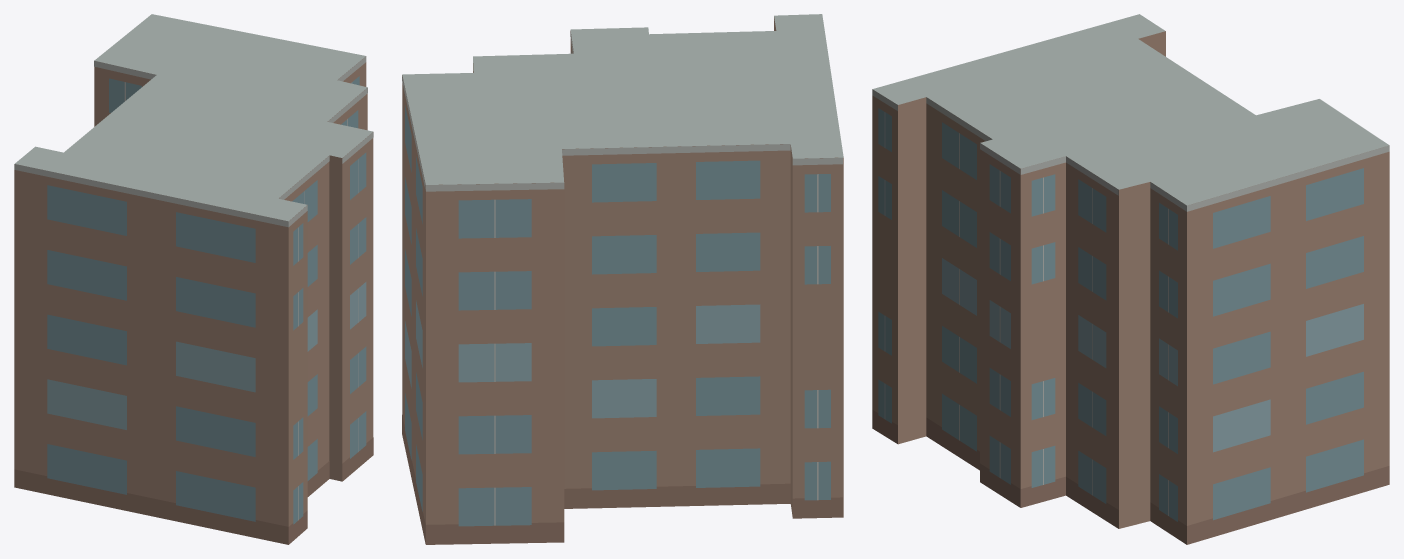
The model's file is survey-upis-32758065.glb.
3 renders of one model, left to right at view 1: azimuth 30°, elevation 25°; view 2: azimuth 150°, elevation 25°; view 3: azimuth 270°, elevation 25°, orthographic. The views are drawn at different scales.
Parts seen in each view (by area): view 1: survey-upis-32758065.tmp; view 2: survey-upis-32758065.tmp; view 3: survey-upis-32758065.tmp.
Boxes of the visible parts, bbox=[...] form: survey-upis-32758065.tmp: bbox=[14, 14, 373, 544]; survey-upis-32758065.tmp: bbox=[402, 14, 843, 544]; survey-upis-32758065.tmp: bbox=[872, 14, 1389, 544].
Size of the model in its own units: 15.99 by 13.2 by 18.25.
